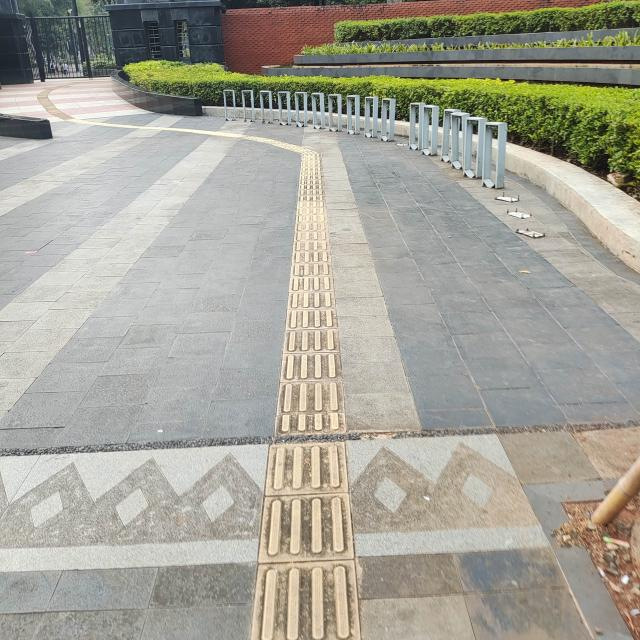lurus: (260, 168, 354, 640)
